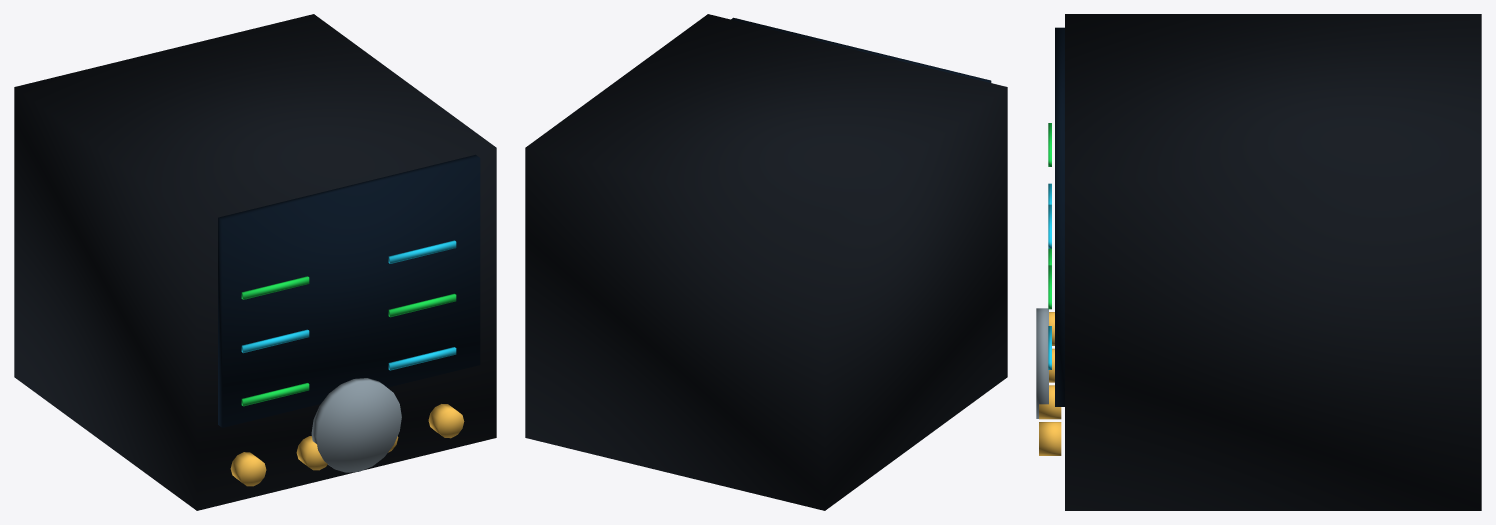
File: 44_L94_BenchDigitalMultimeter.fbx
3 views of the same model, side by side, from view 1: azimuth 30°, elevation 25°; view 2: azimuth 150°, elevation 25°; view 3: azimuth 270°, elevation 25° (orthographic). The views are drawn at different scales.
Visible parts, largest first — view 1: L94_BenchDigitalMultimeter, L94_BenchDigitalMultimeter_Part_0005; view 2: L94_BenchDigitalMultimeter; view 3: L94_BenchDigitalMultimeter, L94_BenchDigitalMultimeter_Part_0005.
Part boxes in pixels (x1,y1,x2,y2): L94_BenchDigitalMultimeter: [14, 14, 496, 510]; L94_BenchDigitalMultimeter_Part_0005: [311, 378, 401, 472]; L94_BenchDigitalMultimeter: [525, 14, 1007, 510]; L94_BenchDigitalMultimeter: [1039, 14, 1481, 510]; L94_BenchDigitalMultimeter_Part_0005: [1036, 308, 1048, 418].
Size of the model in its own units: 53 by 49 by 59.85.
